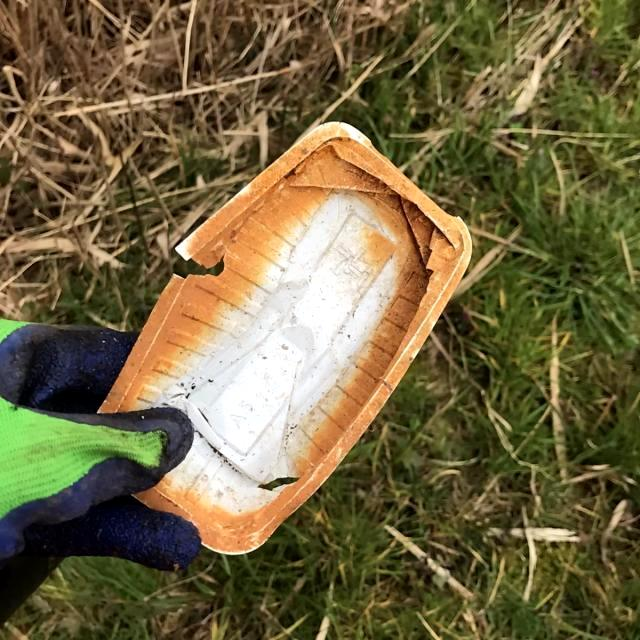Plastic: (91, 118, 472, 558)
